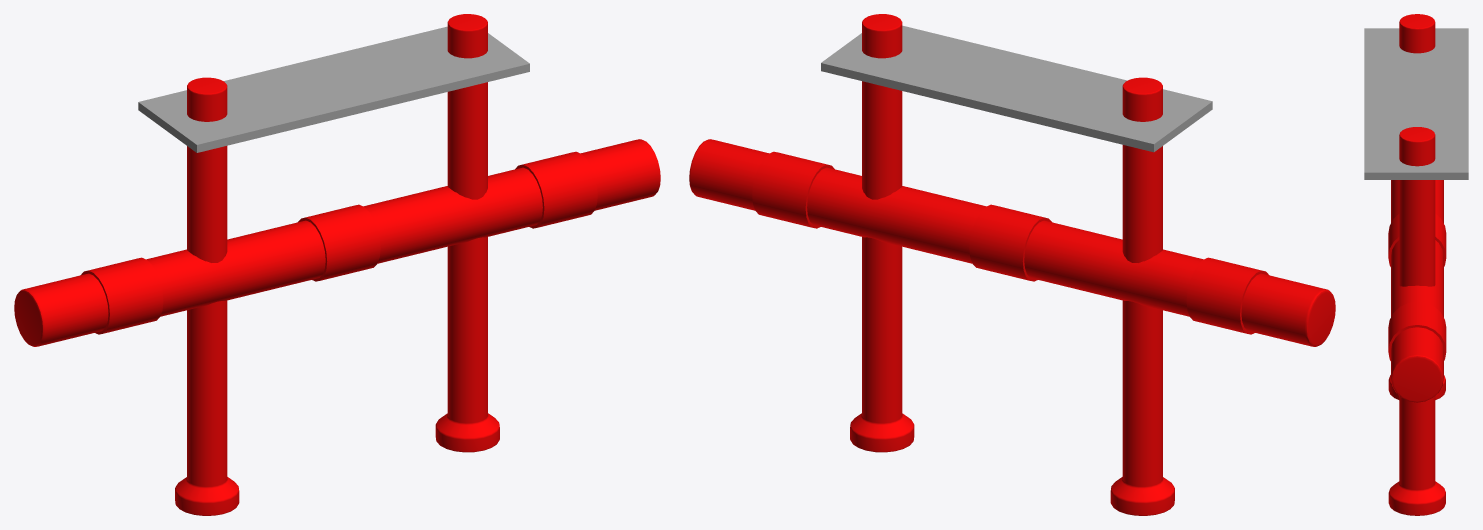
Rendered from Low_Poteaux_Chaise.fbx.
3 renders of one model, left to right at view 1: azimuth 30°, elevation 25°; view 2: azimuth 150°, elevation 25°; view 3: azimuth 270°, elevation 25°, orthographic. The views are drawn at different scales.
Parts seen in each view (by area): view 1: Poteaux; view 2: Poteaux; view 3: Poteaux.
Part boxes in pixels (bbox=[...]): Poteaux: bbox=[14, 14, 660, 515]; Poteaux: bbox=[689, 14, 1335, 515]; Poteaux: bbox=[1364, 14, 1468, 515].
Size of the model in its own units: 71.27 by 45.92 by 11.7.
